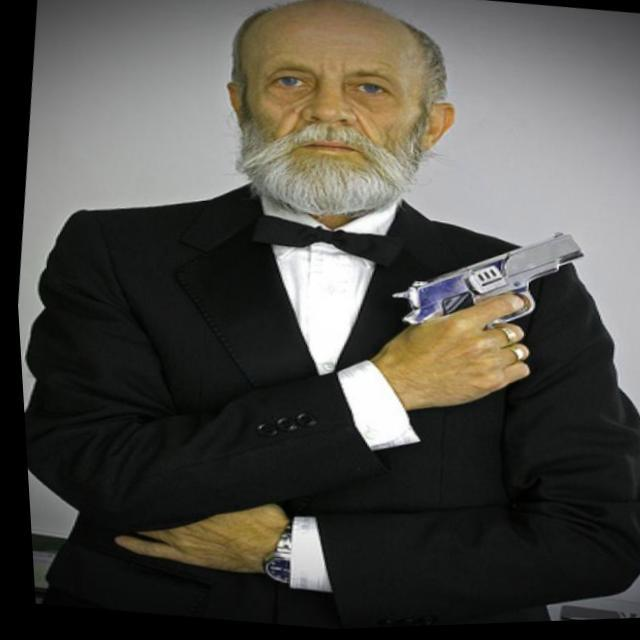weapon: (378, 213, 586, 350)
